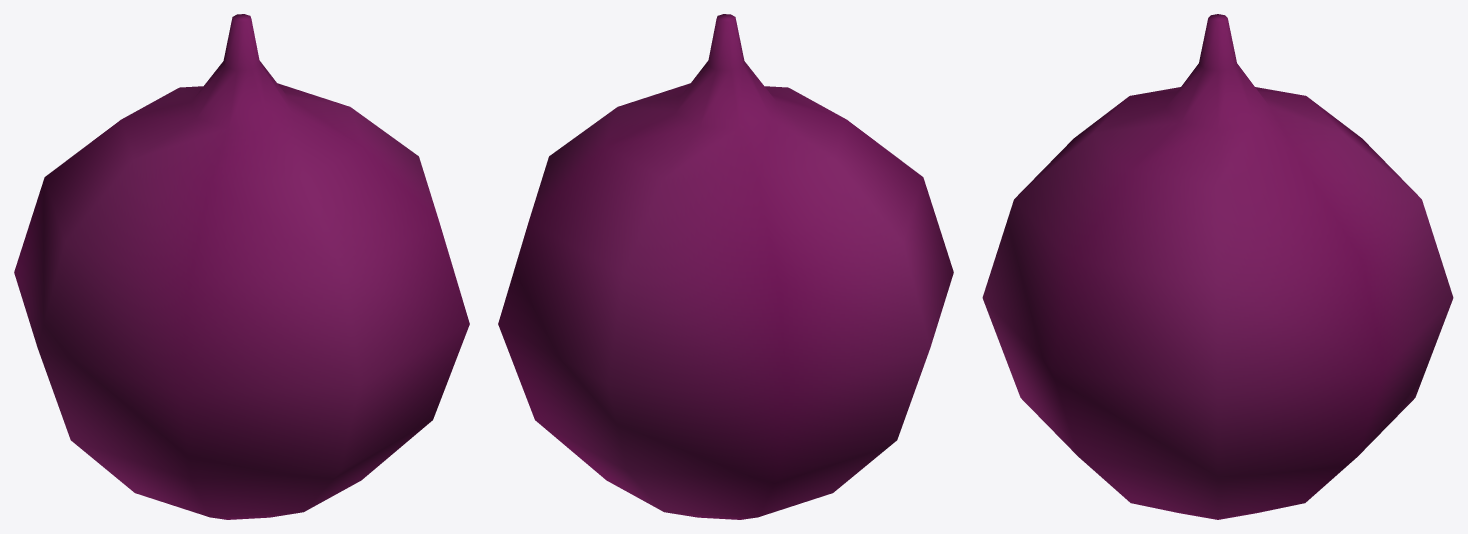
File: Onion.glb
The picture shows the model from 3 angles, left to right: view 1: azimuth 30°, elevation 25°; view 2: azimuth 150°, elevation 25°; view 3: azimuth 270°, elevation 25°; orthographic projection.
Parts seen in each view (by area): view 1: Tomato; view 2: Tomato; view 3: Tomato.
Boxes of the visible parts, x1,y1,x2,y2 form: Tomato: [14, 14, 469, 519]; Tomato: [498, 14, 953, 519]; Tomato: [982, 14, 1453, 519].
Bounding box in the file's own units: 0.0957 × 0.1083 × 0.0957.
